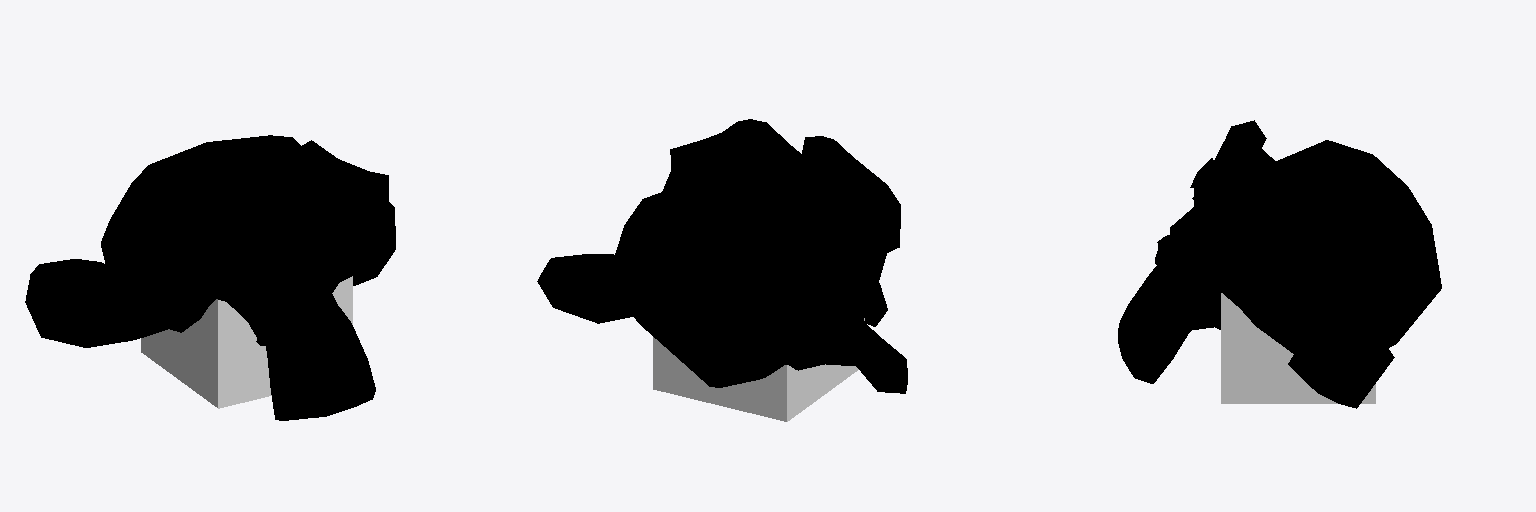
3 views of the same model, side by side, from view 1: azimuth 30°, elevation 25°; view 2: azimuth 150°, elevation 25°; view 3: azimuth 270°, elevation 25° (orthographic).
Parts seen in each view (by area): view 1: Suzanne, Cube_Cube.001; view 2: Suzanne, Cube_Cube.001; view 3: Suzanne, Cube_Cube.001.
Part boxes in pixels (left/top/right/bottom): Suzanne: left=25, top=135, right=395, bottom=420; Cube_Cube.001: left=141, top=276, right=352, bottom=408; Suzanne: left=537, top=119, right=907, bottom=393; Cube_Cube.001: left=653, top=318, right=864, bottom=421; Suzanne: left=1118, top=120, right=1441, bottom=408; Cube_Cube.001: left=1221, top=293, right=1375, bottom=403.
Bounding box in the file's own units: 2.73 × 1.63 × 2.09.